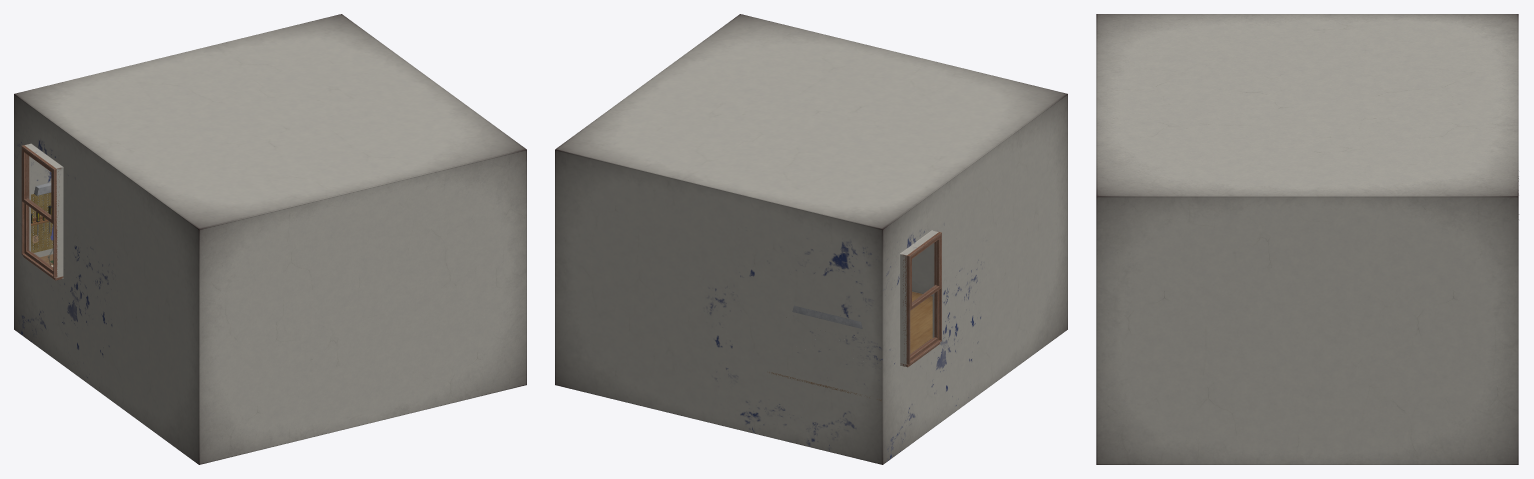
File: hand_crafted_studio.gltf
3 renders of one model, left to right at view 1: azimuth 30°, elevation 25°; view 2: azimuth 150°, elevation 25°; view 3: azimuth 270°, elevation 25°, orthographic. The views are drawn at different scales.
Parts seen in each view (by area): view 1: Room_Main_Rear_Low, Room_Main_Wall_Low, Window_Frame_Low, Corkboard_Low, Window_Upper_Frame_Low; view 2: Room_Main_Wall_Low, Room_Main_Rear_Low, Window_Frame_Low, Room_Floor_Low, Window_Upper_Frame_Low, LED_Bar_Low; view 3: Room_Main_Rear_Low.
Part boxes in pixels (x1,y1,x2,y2): Room_Main_Rear_Low: (14, 14, 526, 464); Room_Main_Wall_Low: (14, 94, 199, 464); Window_Frame_Low: (21, 144, 60, 277); Corkboard_Low: (31, 192, 53, 252); Window_Upper_Frame_Low: (22, 148, 53, 223); Room_Main_Wall_Low: (555, 94, 1067, 464); Room_Main_Rear_Low: (555, 14, 1067, 296); Window_Frame_Low: (902, 231, 941, 364); Room_Floor_Low: (910, 291, 932, 353); Window_Upper_Frame_Low: (910, 234, 941, 310); LED_Bar_Low: (792, 305, 862, 328); Room_Main_Rear_Low: (1096, 14, 1518, 464).
Bounding box in the file's own units: 4.81 × 3.21 × 4.58.
17 materials, 17 textured.
